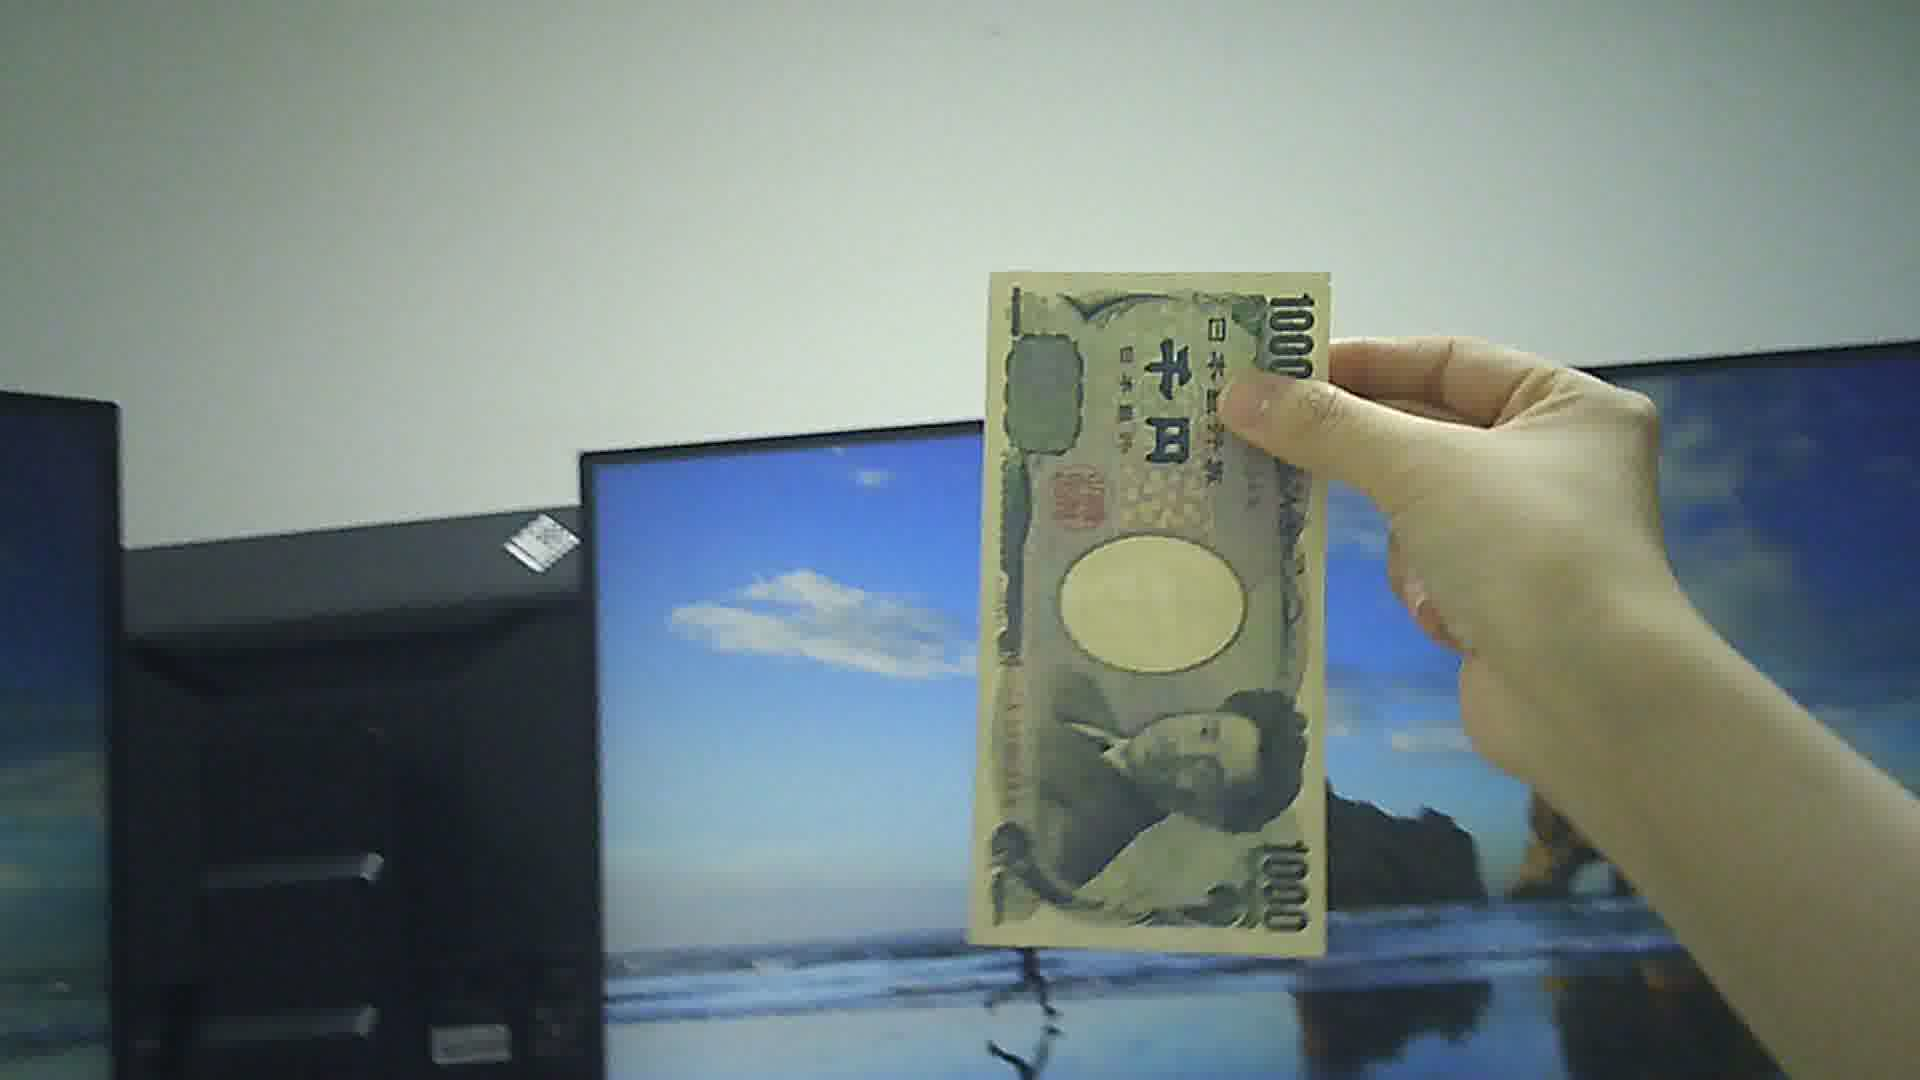1,000 Yen: (975, 251, 1348, 953)
